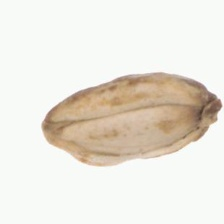L1: (40, 111, 76, 156), (193, 83, 223, 136)
L2: (41, 71, 223, 167)
